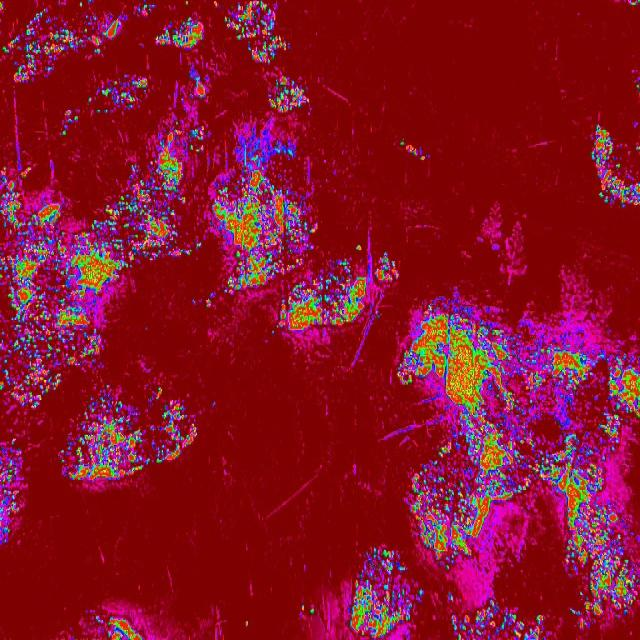fire: (398, 298, 516, 418), (69, 387, 198, 488), (0, 204, 62, 408), (558, 482, 640, 630), (267, 244, 398, 330), (458, 421, 592, 482), (61, 220, 112, 366), (515, 322, 593, 413), (212, 172, 309, 243), (348, 545, 414, 640), (414, 438, 460, 570), (114, 192, 192, 268), (458, 481, 532, 554), (0, 5, 68, 84), (594, 348, 640, 459), (588, 122, 640, 208), (221, 0, 290, 64), (450, 600, 550, 640), (68, 0, 124, 55), (234, 123, 295, 173), (0, 439, 26, 546), (86, 74, 152, 114), (221, 243, 268, 294), (154, 118, 208, 156), (124, 157, 184, 191), (266, 76, 310, 114), (153, 17, 204, 47), (94, 614, 144, 640), (1, 164, 32, 203), (393, 134, 430, 162), (58, 106, 79, 136), (188, 63, 206, 97), (134, 1, 154, 17), (592, 463, 606, 481), (206, 292, 216, 310), (300, 605, 316, 615), (101, 206, 112, 220), (634, 75, 640, 95), (310, 224, 319, 236), (622, 0, 640, 5), (410, 503, 416, 516), (195, 242, 203, 250), (244, 620, 250, 628), (210, 400, 216, 406), (184, 0, 189, 5), (272, 330, 276, 336)
